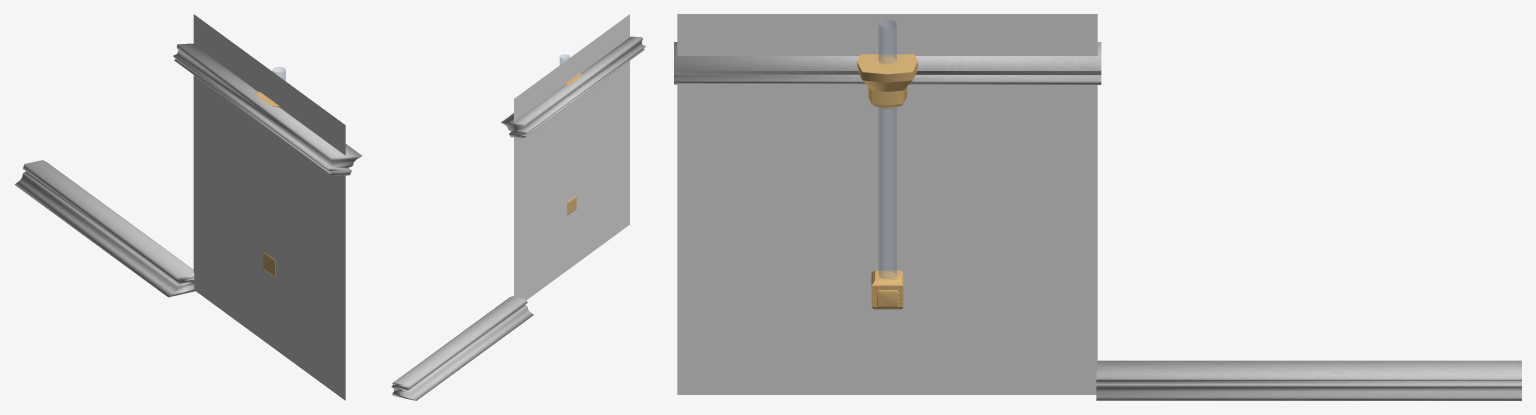
Rendered from walltest_escaperoom_models.fbx.
The picture shows the model from 3 angles, left to right: view 1: azimuth 30°, elevation 25°; view 2: azimuth 150°, elevation 25°; view 3: azimuth 270°, elevation 25°; orthographic projection. The views are drawn at different scales.
Visible parts, largest first — view 1: Plane, Cube.005, Cube.002; view 2: Plane, Cube.005, Cube.002; view 3: Plane, Cube.005, Cube.002, Tube, Hatch_Top, Hatch_cube.
Boxes of the visible parts, <box> form: Plane: <box>193,14,345,400</box>; Cube.005: <box>14,160,195,297</box>; Cube.002: <box>173,43,361,175</box>; Plane: <box>514,14,629,299</box>; Cube.005: <box>391,296,533,400</box>; Cube.002: <box>501,36,645,137</box>; Plane: <box>677,14,1097,394</box>; Cube.005: <box>1096,360,1521,400</box>; Cube.002: <box>674,42,1101,84</box>; Tube: <box>878,20,896,278</box>; Hatch_Top: <box>857,54,917,108</box>; Hatch_cube: <box>871,270,903,309</box>.
Bounding box in the file's own units: 75.64 × 361 × 723.
Materials: 6 (1 with a texture image).
